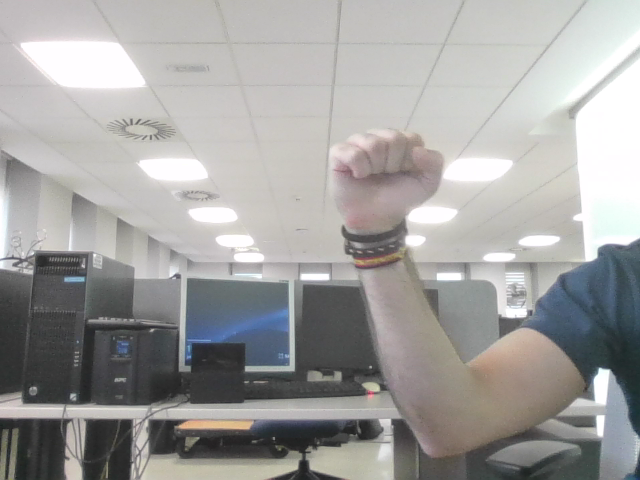Puño: (343, 138, 432, 204)
